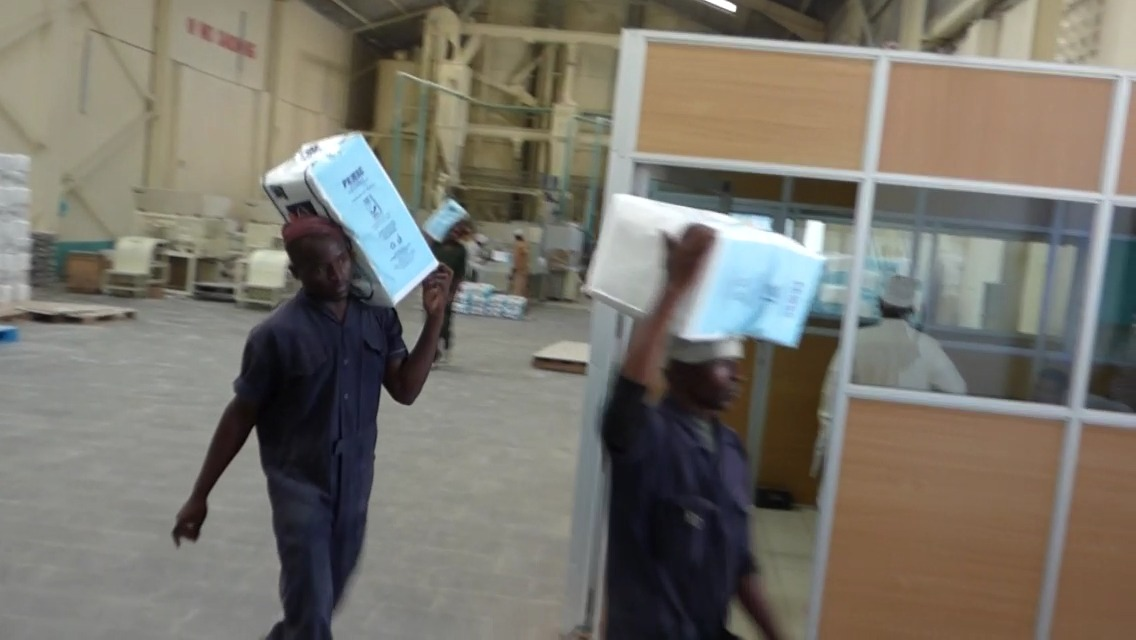wheat_flour_blue_label: (582, 193, 823, 343), (261, 130, 437, 303)
